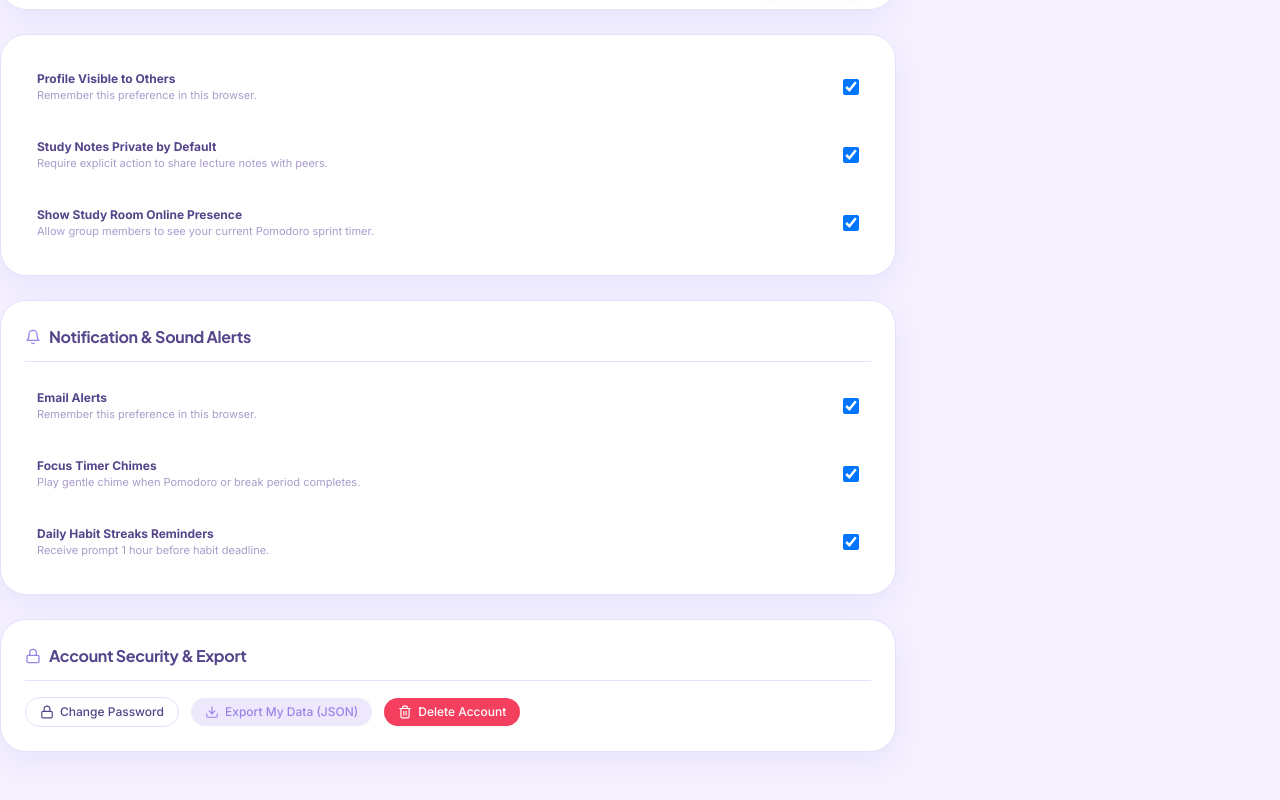
Scenario: profile photo settings › warns that all tasks and related data are permanently deleted before confirmation
(page scrolled)
Click the button "Delete Account". click: (452,712)
box: 384,698 -> 520,726
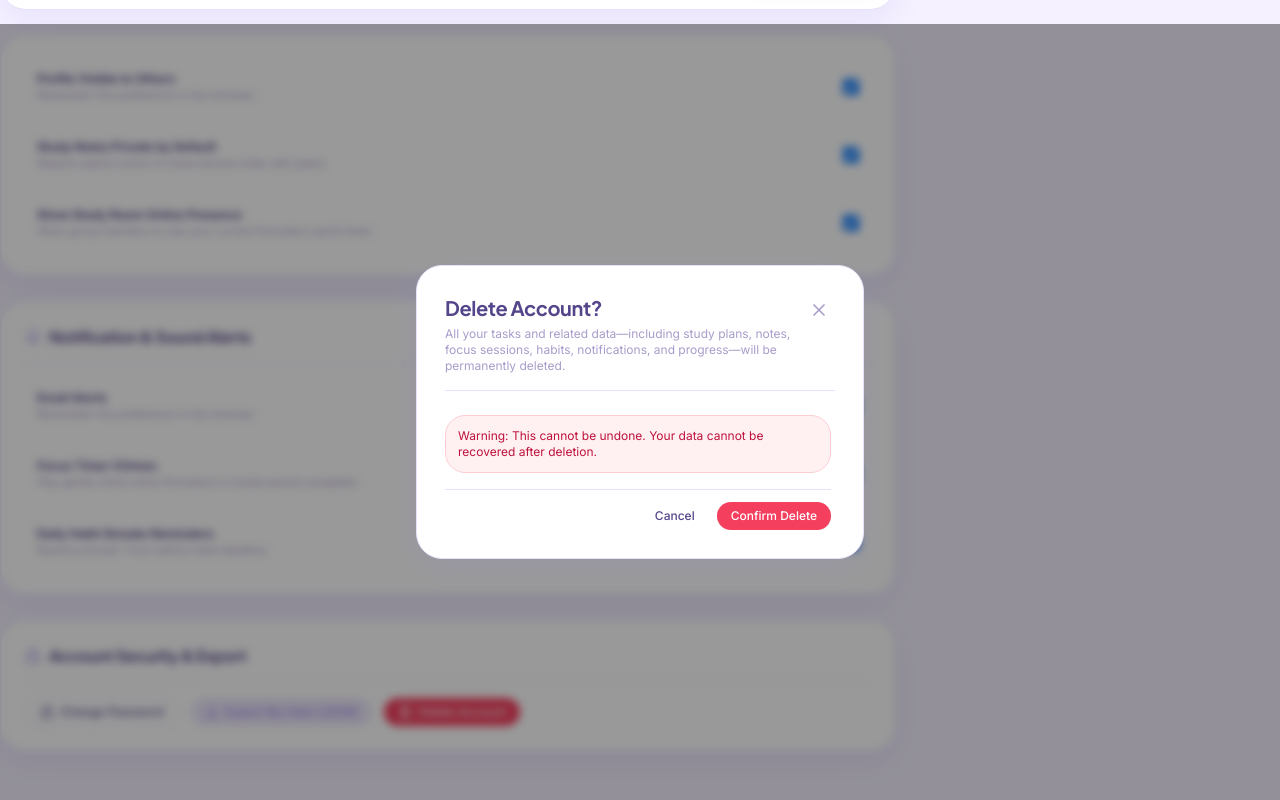
expect the text "All your tasks and related data—including study plans, notes, focus sessions, habits, notifications, and progress—will b" is shown: met, box 445,326 -> 790,373
expect the text "Warning: This cannot be undone. Your data cannot be recovered after deletion." is shown: met, box 445,415 -> 831,473
